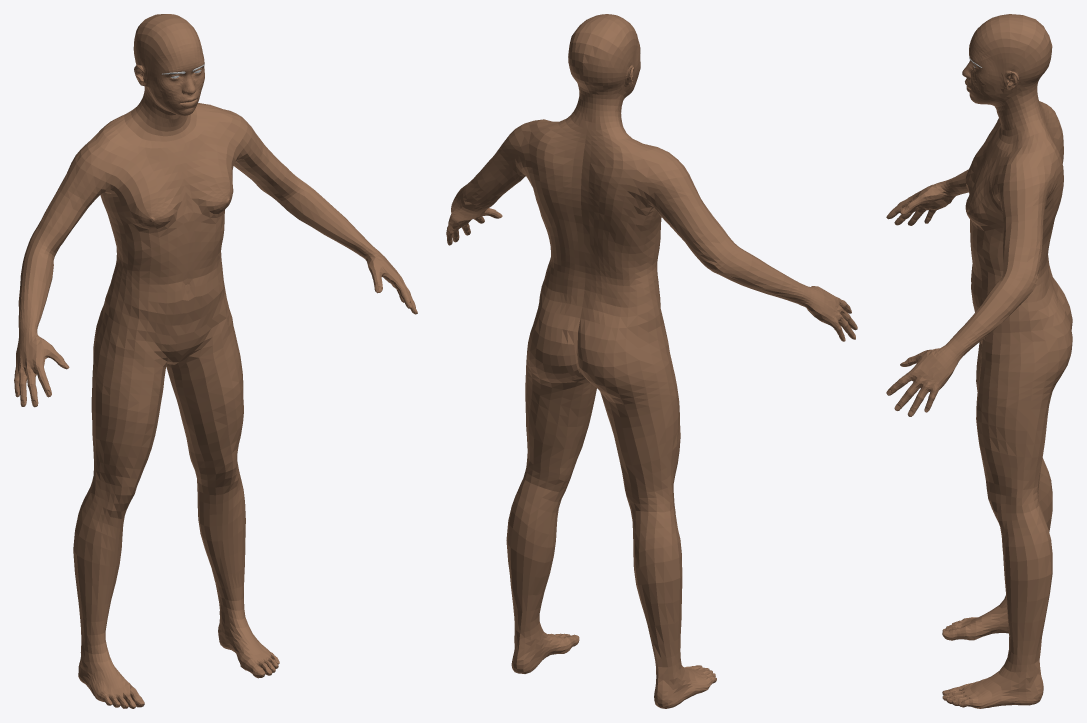
File: Human.obj
3 views of the same model, side by side, from view 1: azimuth 30°, elevation 25°; view 2: azimuth 150°, elevation 25°; view 3: azimuth 270°, elevation 25° (orthographic).
Parts seen in each view (by area): view 1: base.obj; view 2: base.obj; view 3: base.obj.
Boxes of the visible parts, x1,y1,x2,y2 form: base.obj: (14, 14, 417, 708); base.obj: (446, 14, 857, 708); base.obj: (886, 14, 1072, 708).
Size of the model in its own units: 1.05 by 1.66 by 0.43.
